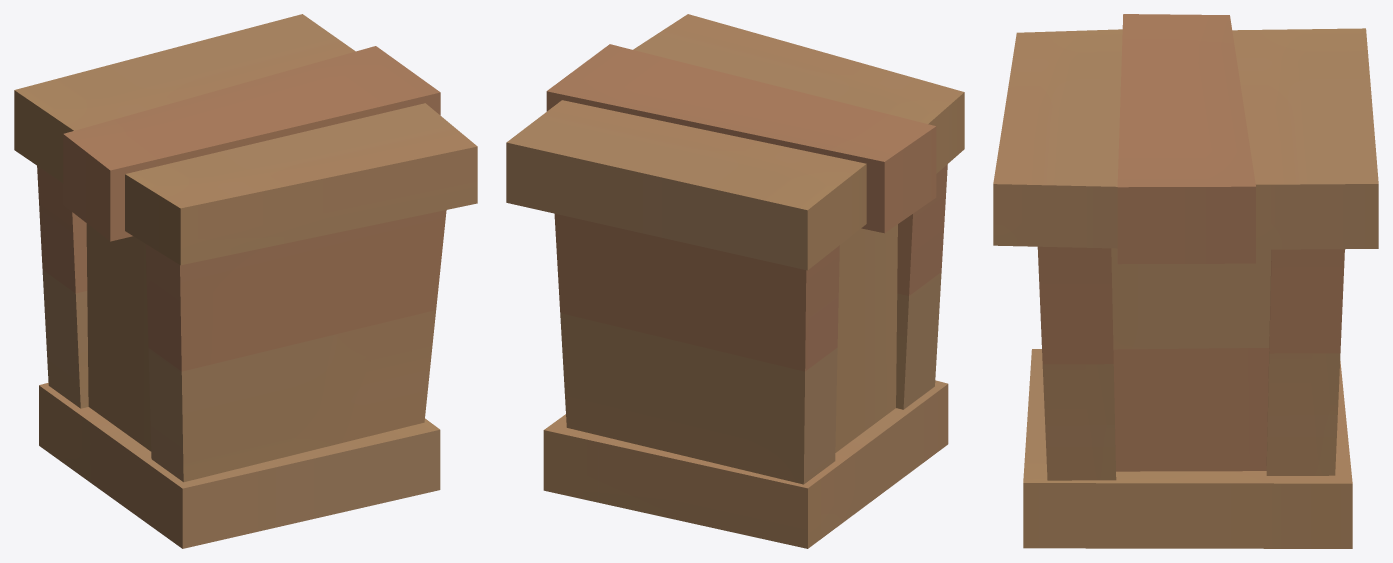
The model's file is Crate.glb.
3 renders of one model, left to right at view 1: azimuth 30°, elevation 25°; view 2: azimuth 150°, elevation 25°; view 3: azimuth 270°, elevation 25°, orthographic. The views are drawn at different scales.
Visible parts, largest first — view 1: ct_town_crate; view 2: ct_town_crate; view 3: ct_town_crate.
Boxes of the visible parts, box(x1,y1,x2,y2) form: ct_town_crate: box(14, 14, 477, 548); ct_town_crate: box(506, 14, 964, 548); ct_town_crate: box(993, 14, 1378, 548).
Bounding box in the file's own units: 1.1 × 1.14 × 1.04.
Materials: 1 (1 with a texture image).
